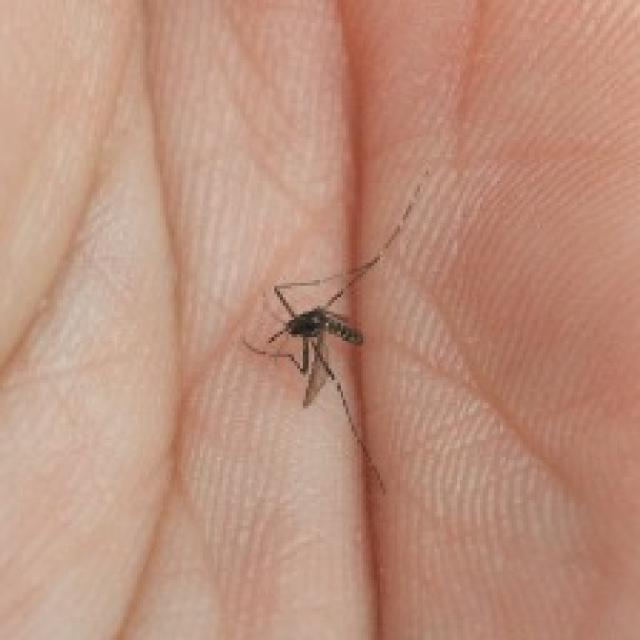aedes: (240, 169, 429, 494)
